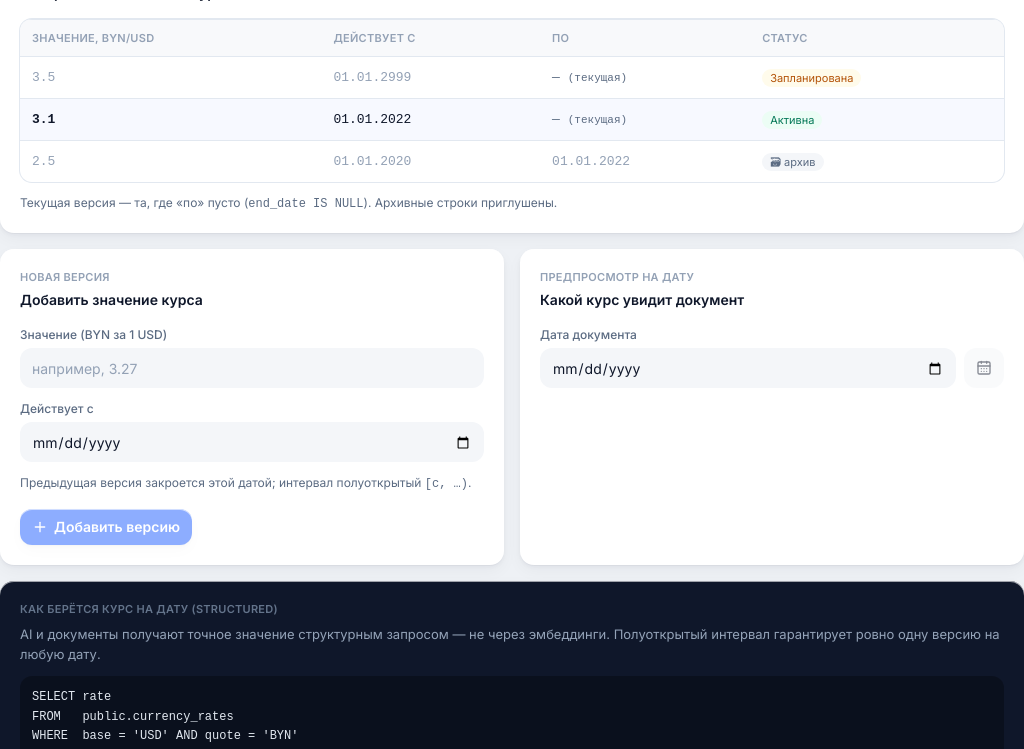
it: SpravRates › предпросмотр «на дату» зовёт currencyRateAsOf и показывает найденный курс
(page scrolled)
// второй date-инпут принадлежит карточке предпросмотра «Дата документа»
Type "2023-06-01" into the date field below "Дата документа" at (748, 368), box [552, 358, 944, 380]
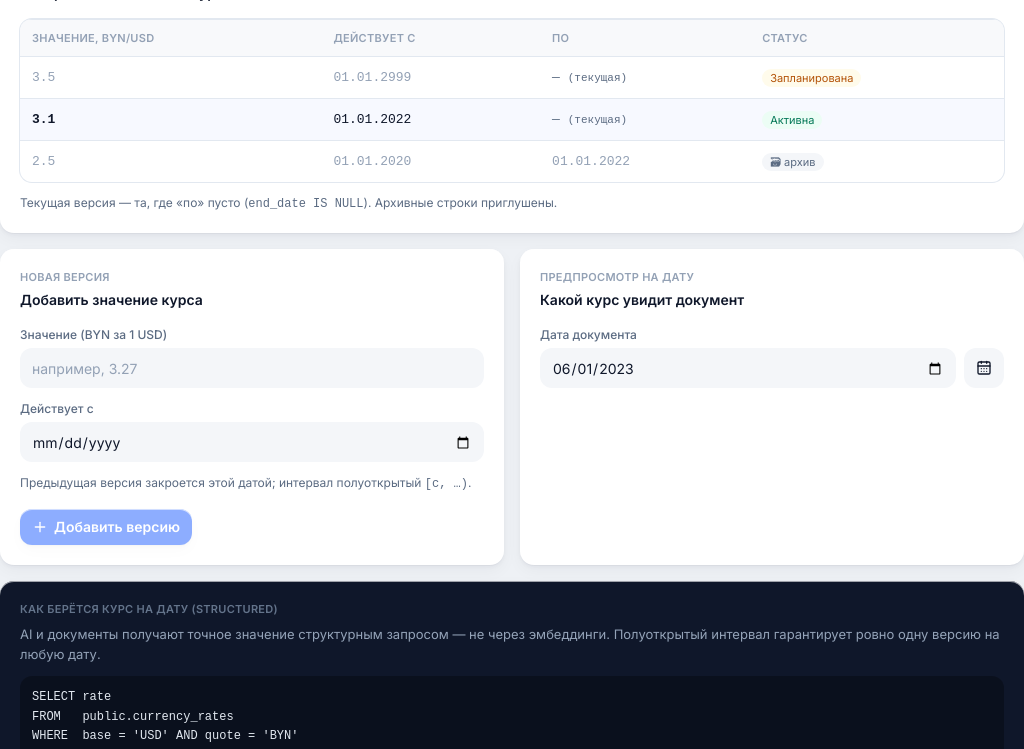
Click the button titled "Найти курс" at (984, 368), box [964, 348, 1004, 388]
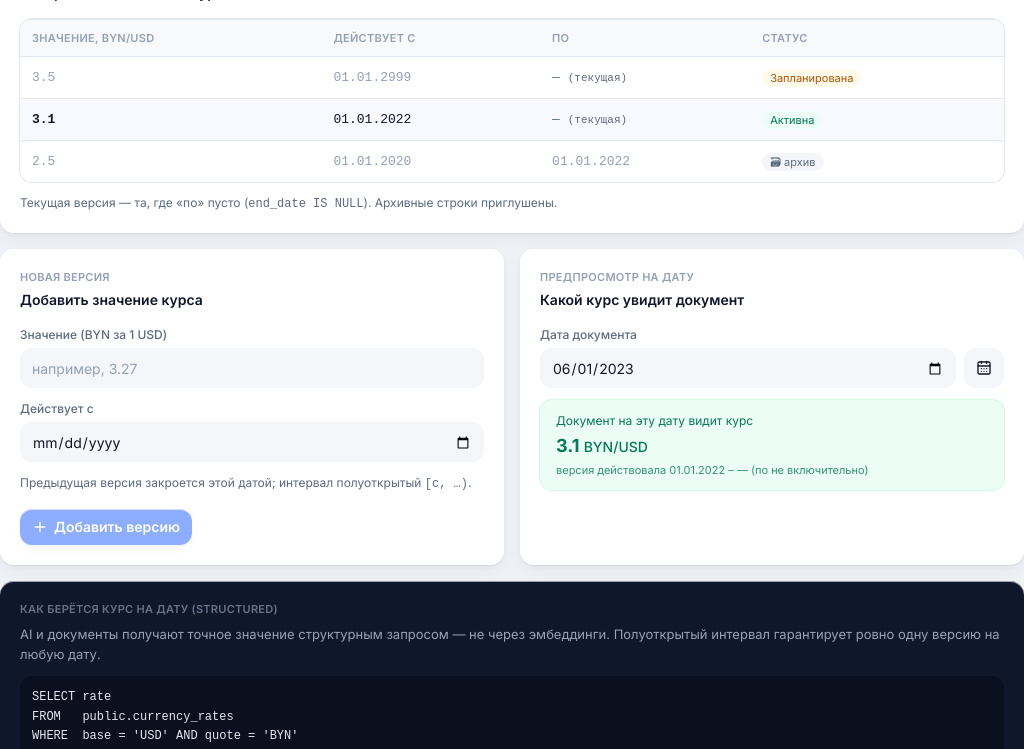
Check: the text "3.1" is shown, box [556, 434, 579, 456]
Check: the text "BYN/USD" is shown, box [584, 438, 648, 454]
